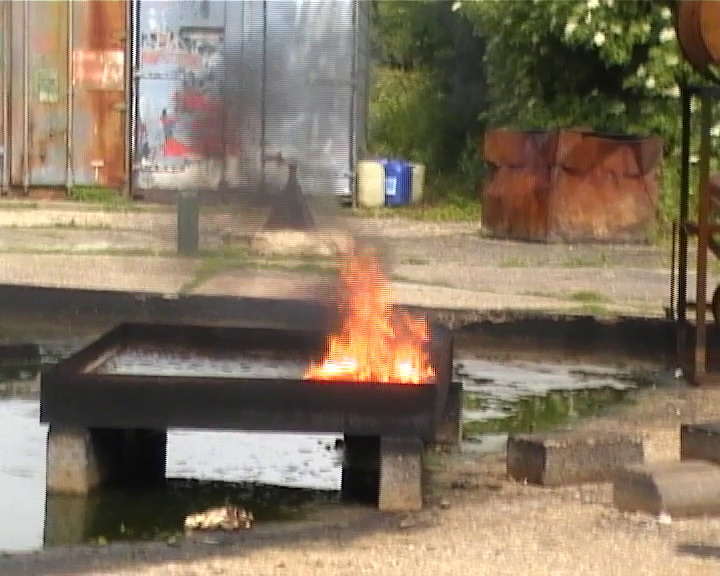fire: (316, 260, 425, 379)
